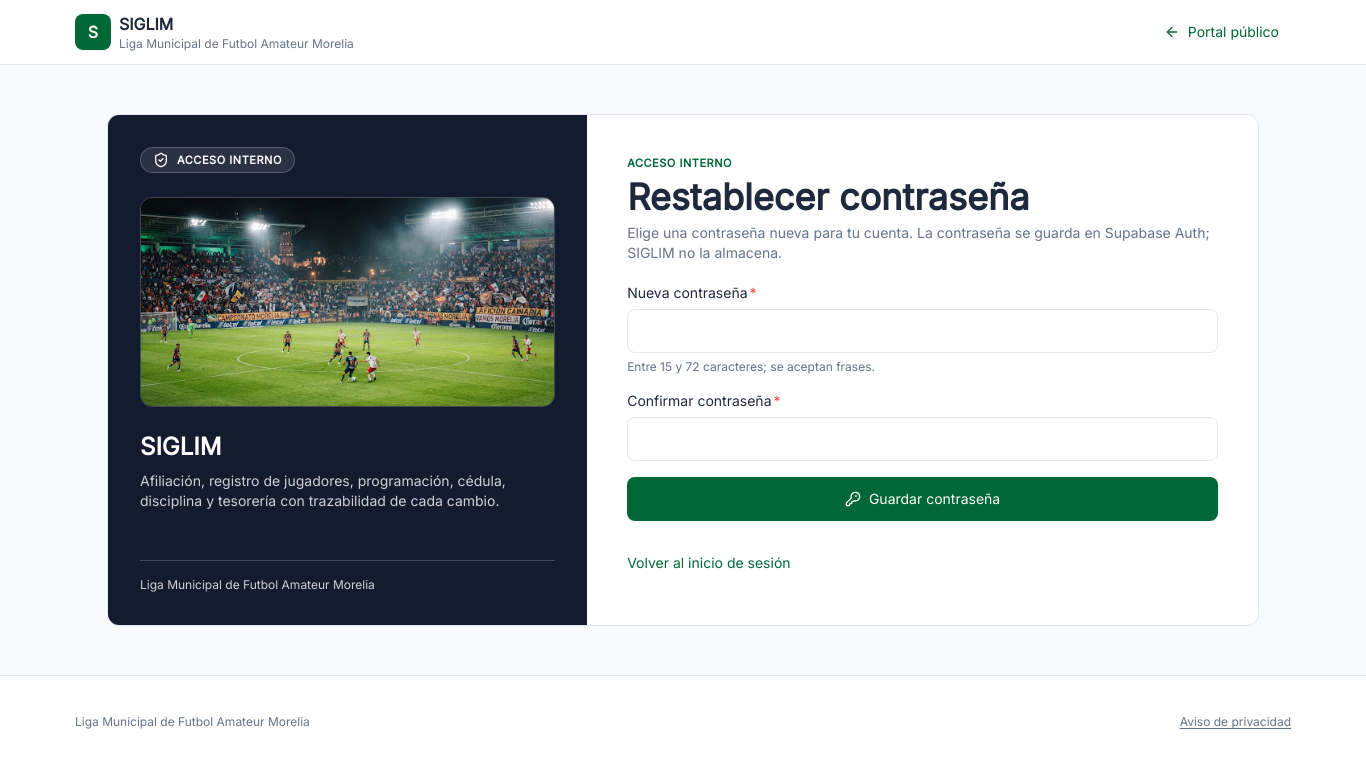
Scenario: RestablecerContrasena › H-01.2: guarda la contraseña nueva y vuelve al inicio de sesión
In the password field labelled "Nueva contraseña*": (923, 331) [627,309,1218,353], type "frase secreta larga"
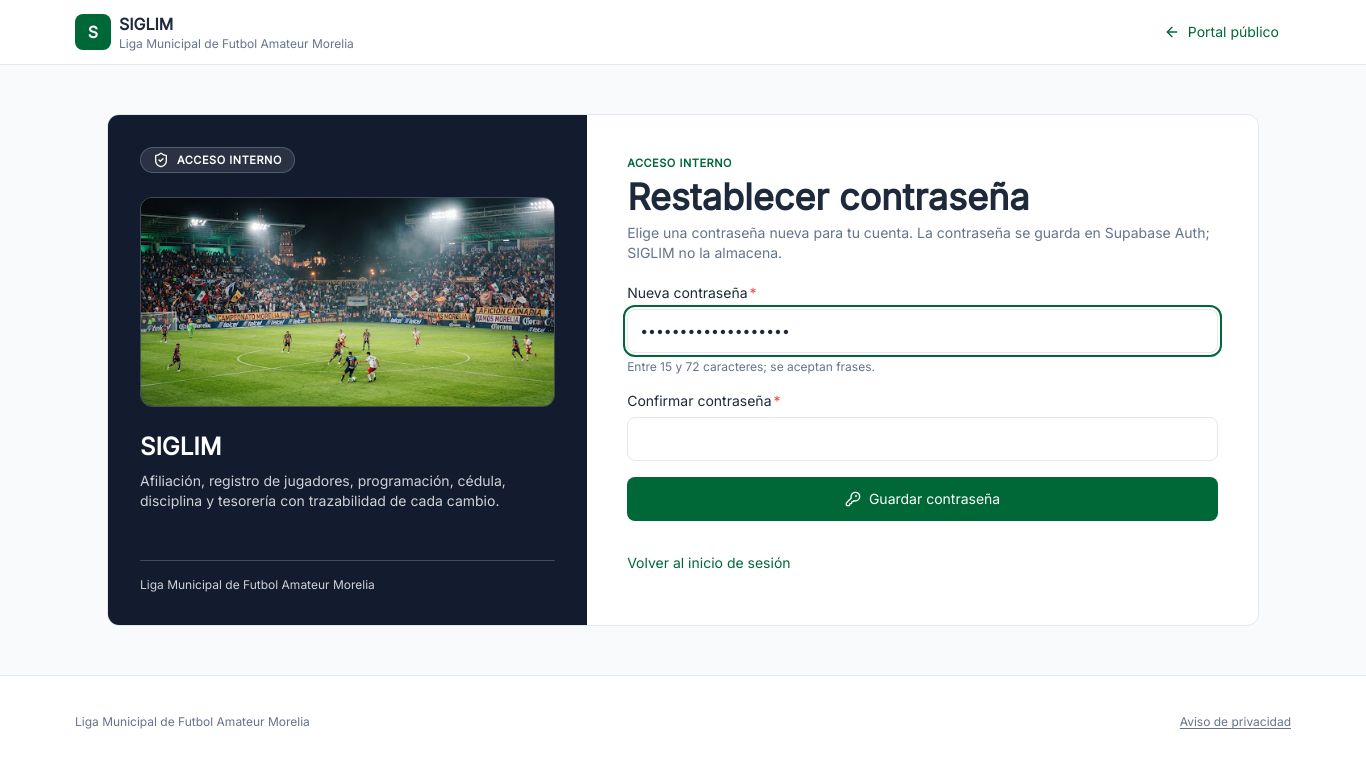
In the password field labelled "Confirmar contraseña*": (923, 439) [627,417,1218,461], type "frase secreta larga"
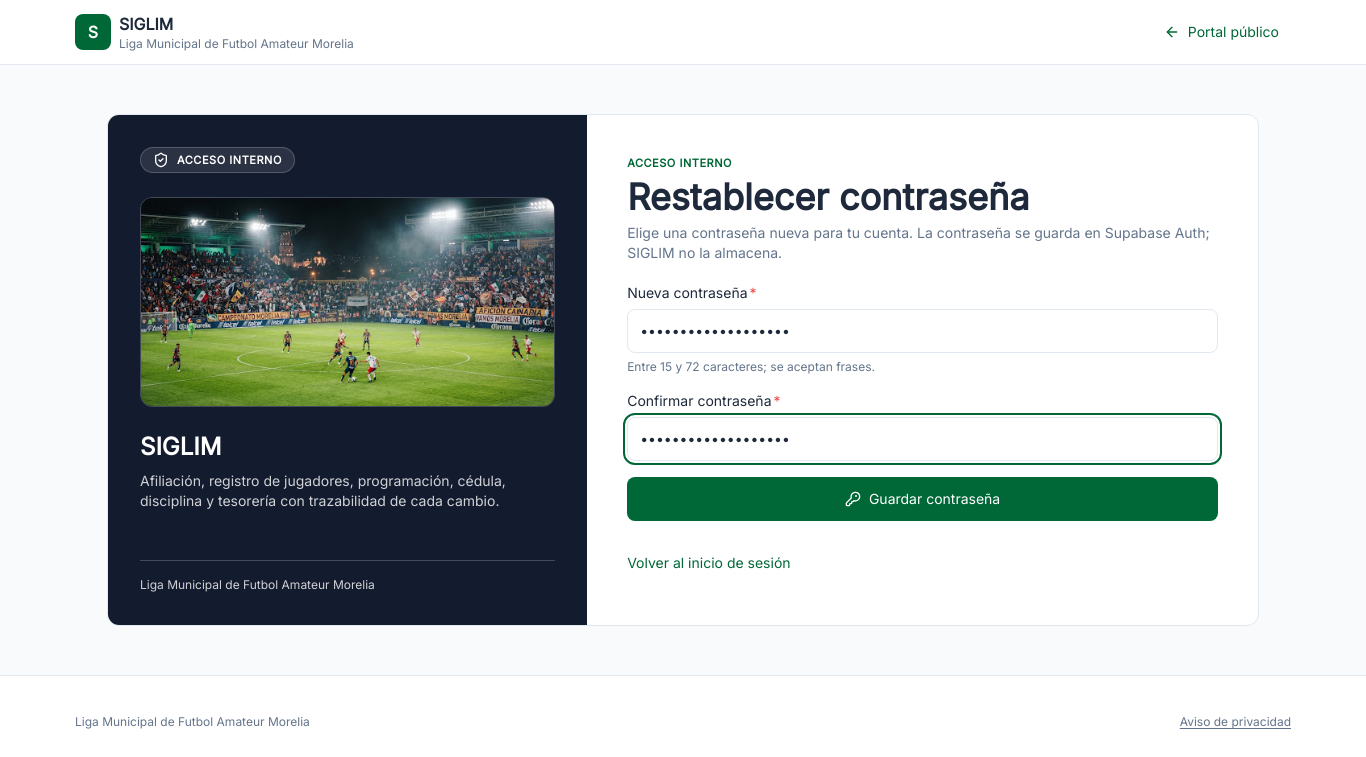
Click the button "Guardar contraseña": (923, 499) [627,477,1218,521]
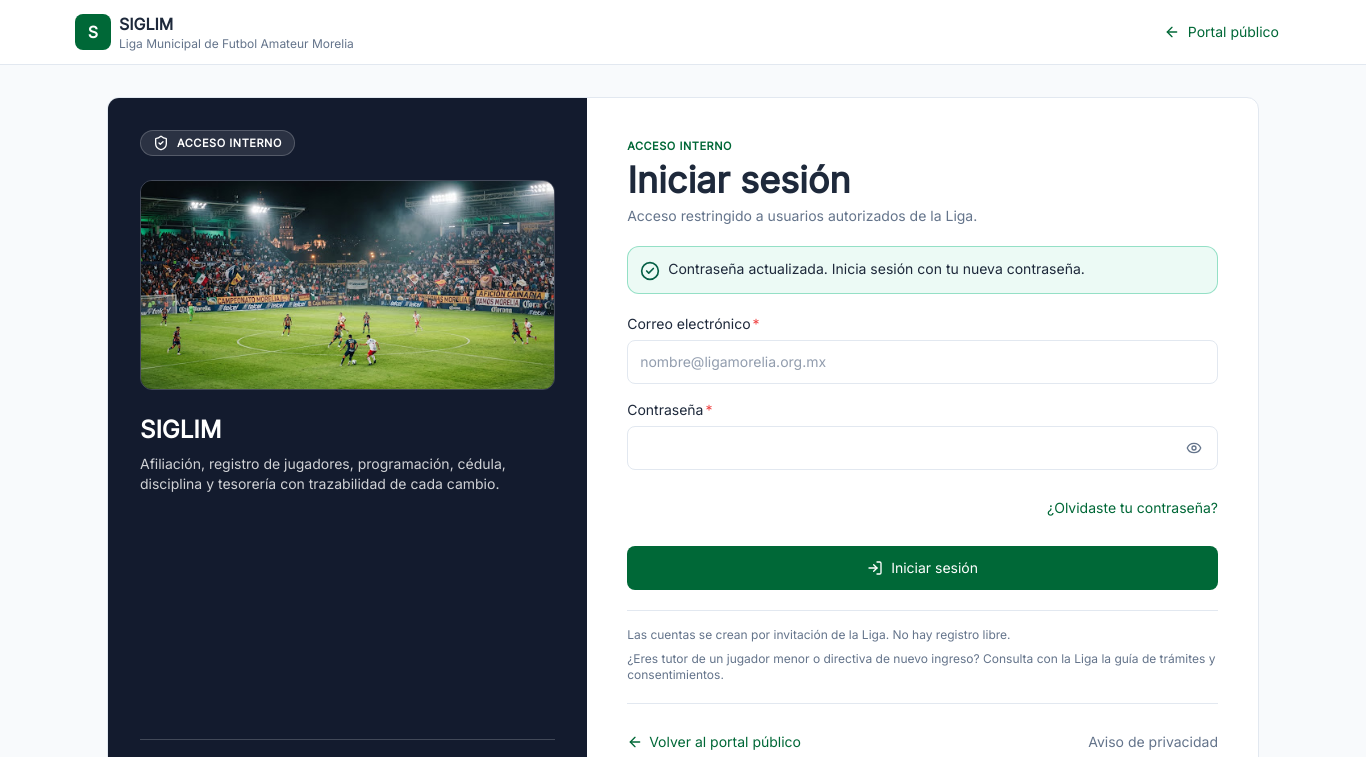
Expected: the heading "Iniciar sesión" is shown, [627,158,851,202]
Expected: the text "Contraseña actualizada. Inicia sesión con tu nueva contraseña." is shown, [668,259,1085,279]
